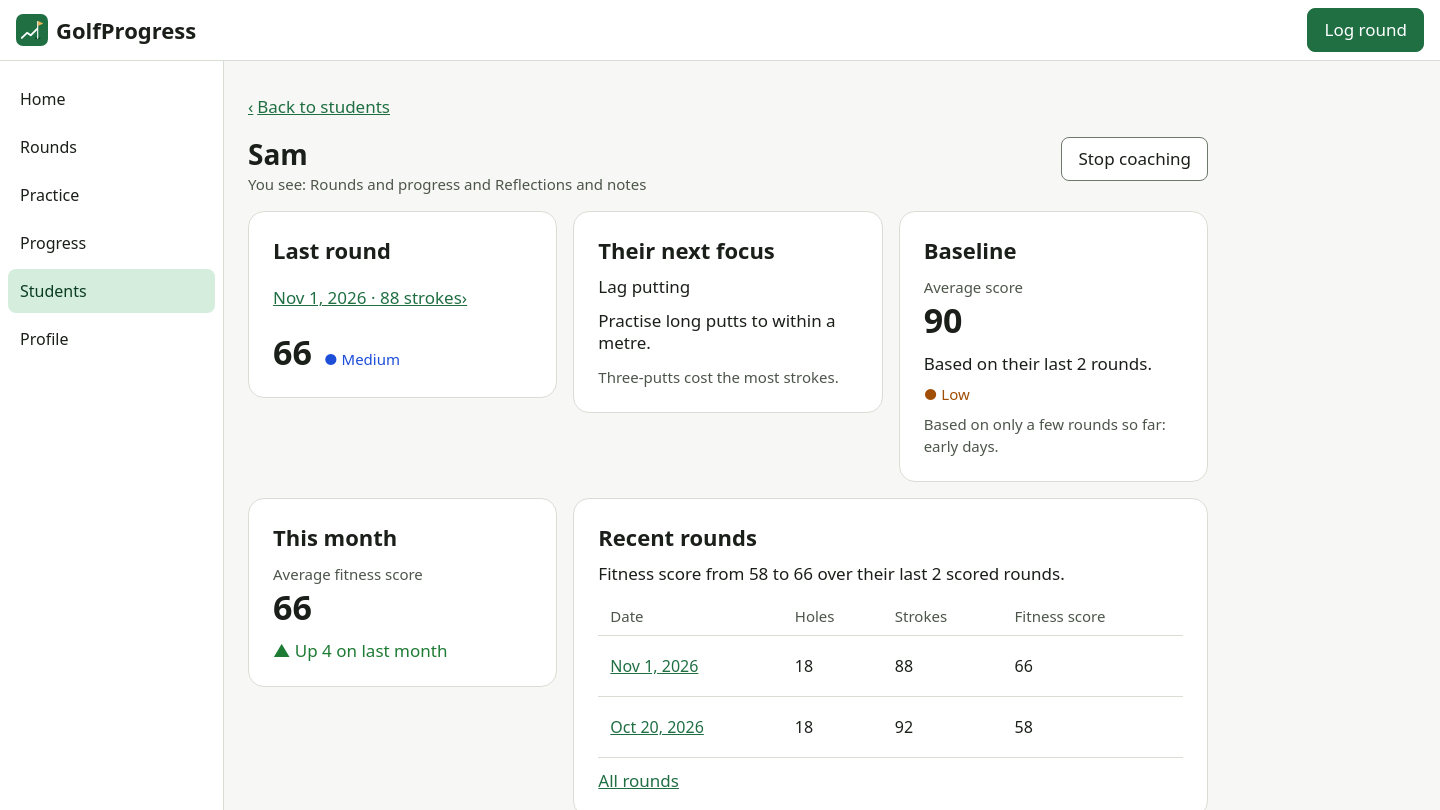
Test: a student's overview (#203) › stops coaching after asking, and goes back to Students
This screenshot has width=1440, height=810.
Click the button with aria-label "Stop coaching Sam".
click(1135, 159)  # box left=1061, top=137, right=1208, bottom=181
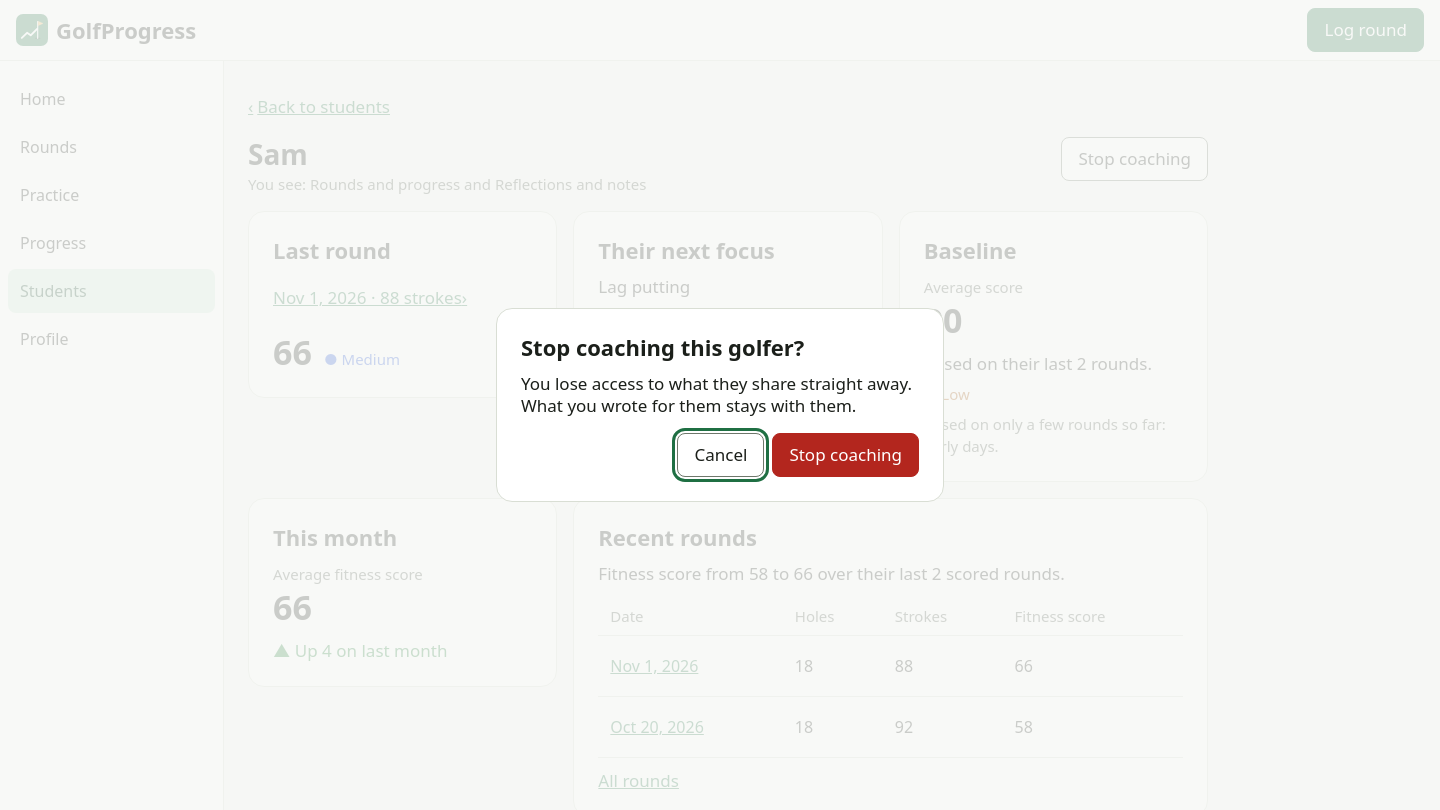
Click the button "Stop coaching" below "Stop coaching this golfer?".
click(846, 455)  # box left=772, top=433, right=919, bottom=477
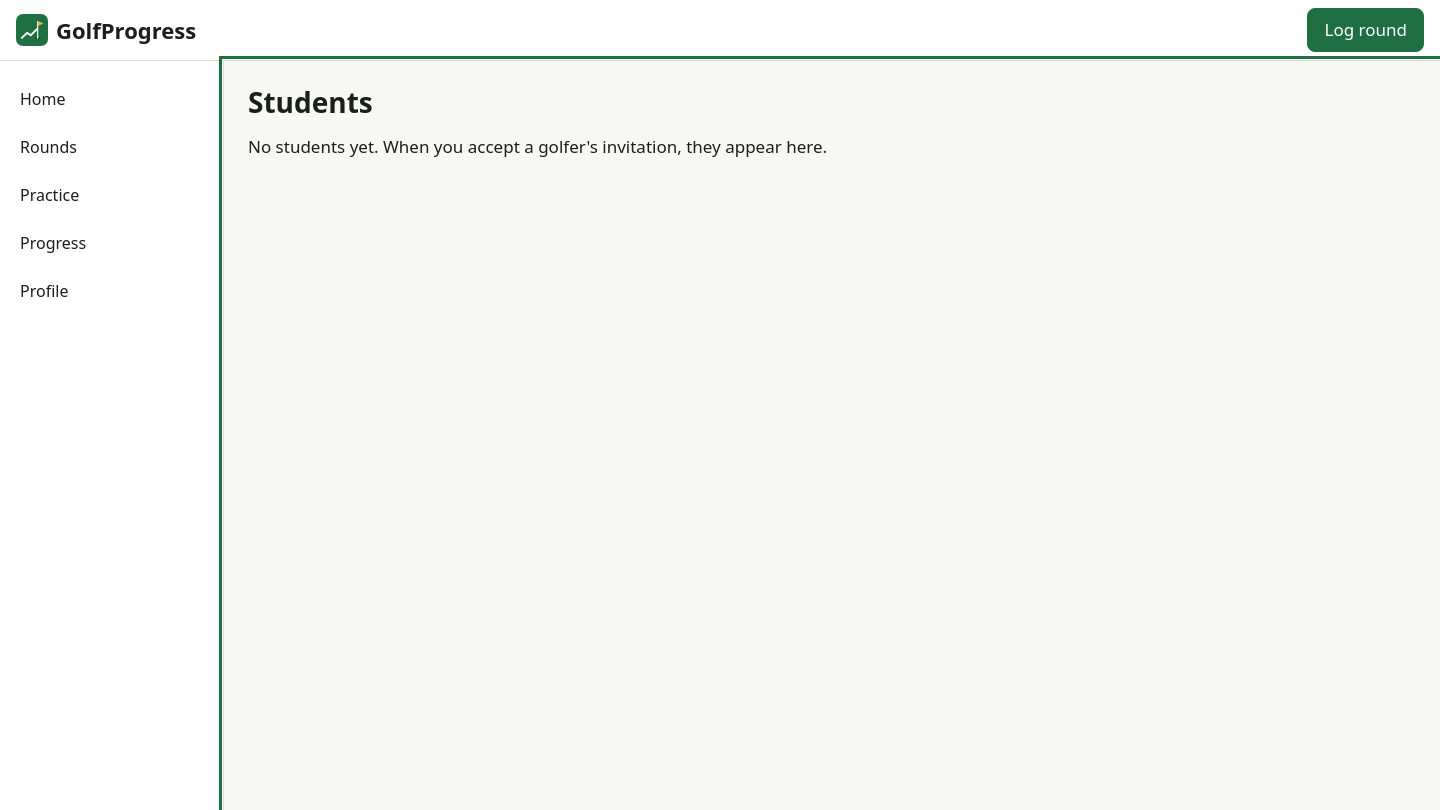
Check: the text "No students yet" is shown, box left=248, top=135, right=827, bottom=158
